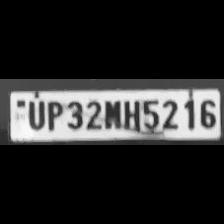1: (179, 97, 197, 130)
2: (160, 97, 180, 130), (84, 98, 103, 130)
3: (64, 98, 82, 130)
5: (140, 97, 158, 130)
6: (196, 97, 218, 129)
H: (122, 97, 140, 130)
M: (103, 98, 121, 130)
P: (43, 98, 62, 132)
U: (23, 98, 45, 130)
